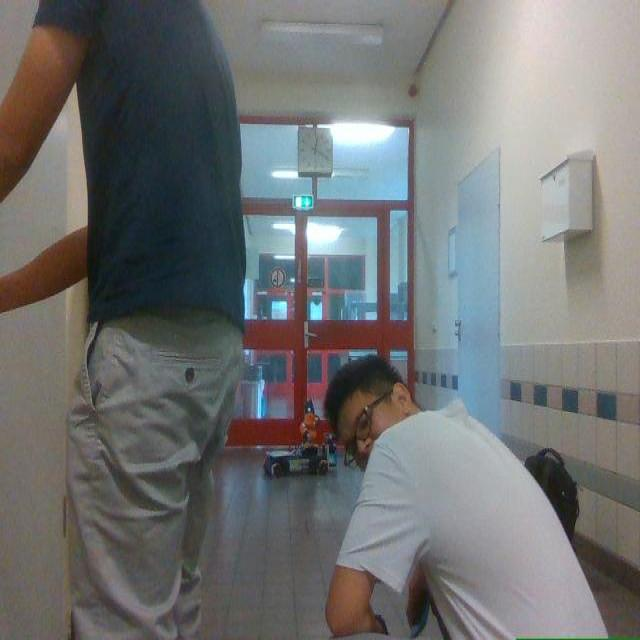humans: (0, 0, 244, 639), (325, 356, 605, 639)
objects: (525, 448, 578, 541), (524, 448, 578, 539), (410, 584, 450, 639), (410, 595, 450, 639), (411, 594, 450, 639), (410, 604, 429, 638), (342, 632, 405, 639), (375, 615, 388, 635)
